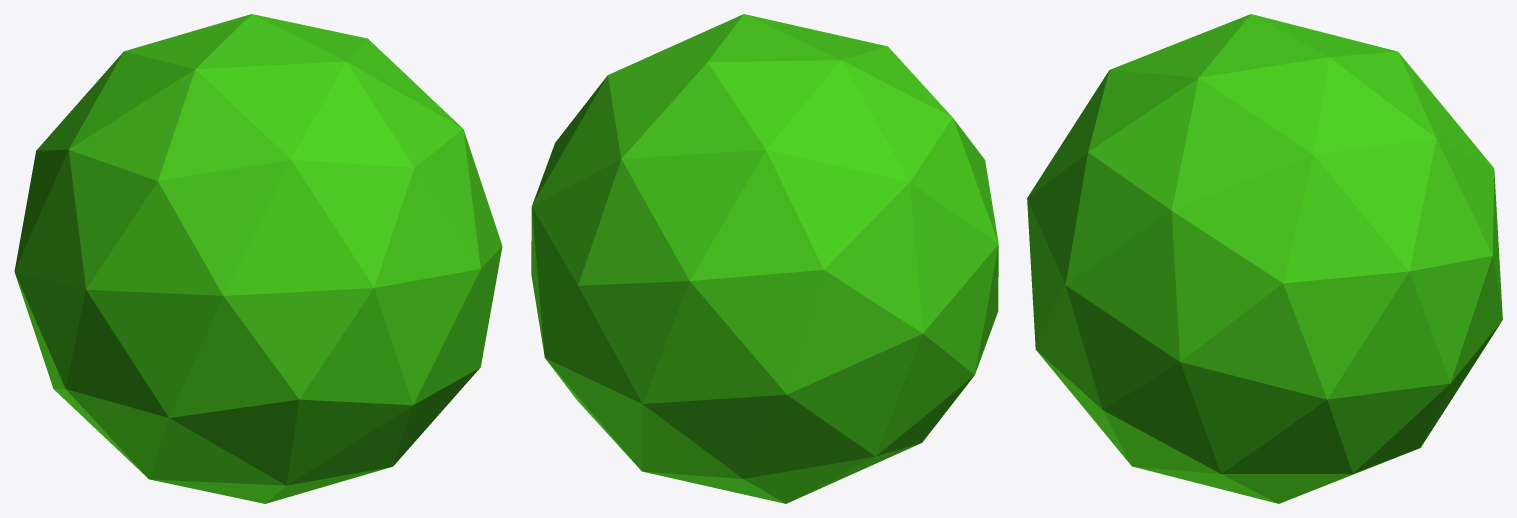
The model's file is Arbusto.fbx.
3 views of the same model, side by side, from view 1: azimuth 30°, elevation 25°; view 2: azimuth 150°, elevation 25°; view 3: azimuth 270°, elevation 25° (orthographic).
Visible parts, largest first — view 1: Icosphere; view 2: Icosphere; view 3: Icosphere.
Boxes of the visible parts, <box> form: Icosphere: <box>14,14,502,503</box>; Icosphere: <box>531,14,998,503</box>; Icosphere: <box>1027,14,1502,503</box>.
Bounding box in the file's own units: 94.95 × 95.82 × 96.44.
